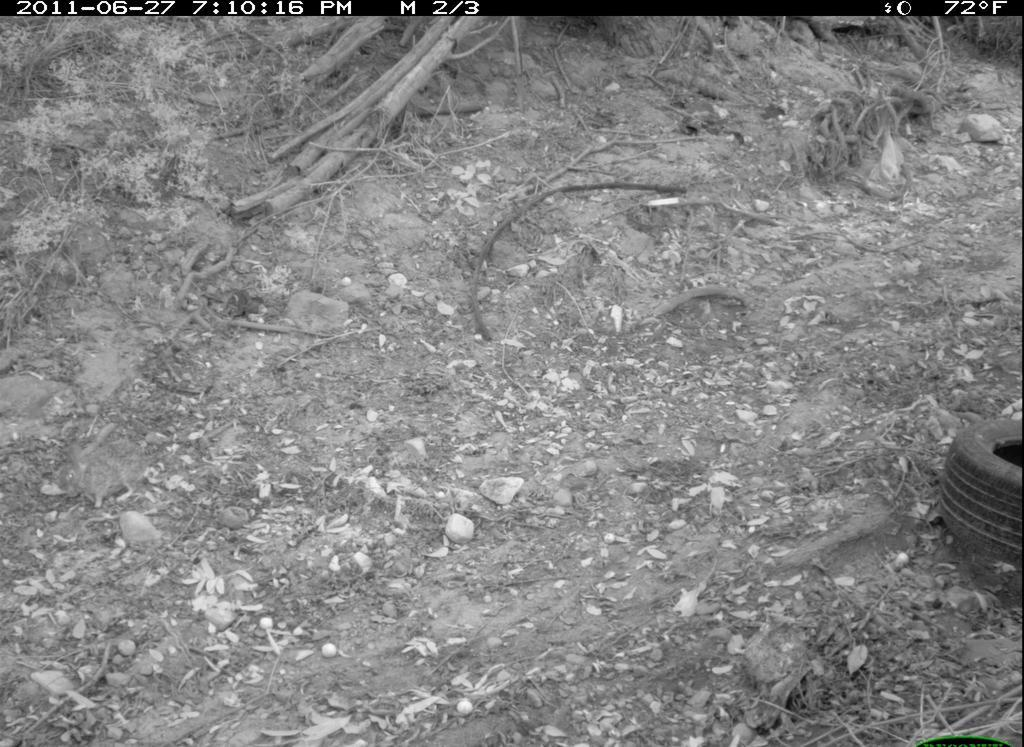rabbit: (50, 421, 153, 512)
